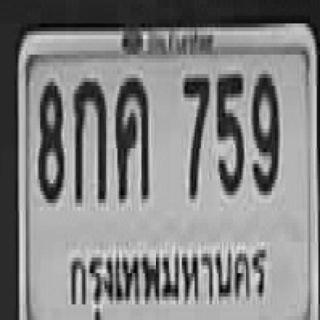A01: (72, 74, 105, 199)
A04: (114, 74, 148, 199)
N05: (216, 70, 243, 191)
N07: (182, 70, 207, 195)
N08: (37, 78, 63, 199)
N09: (251, 70, 278, 191)
P04: (65, 233, 266, 313)
